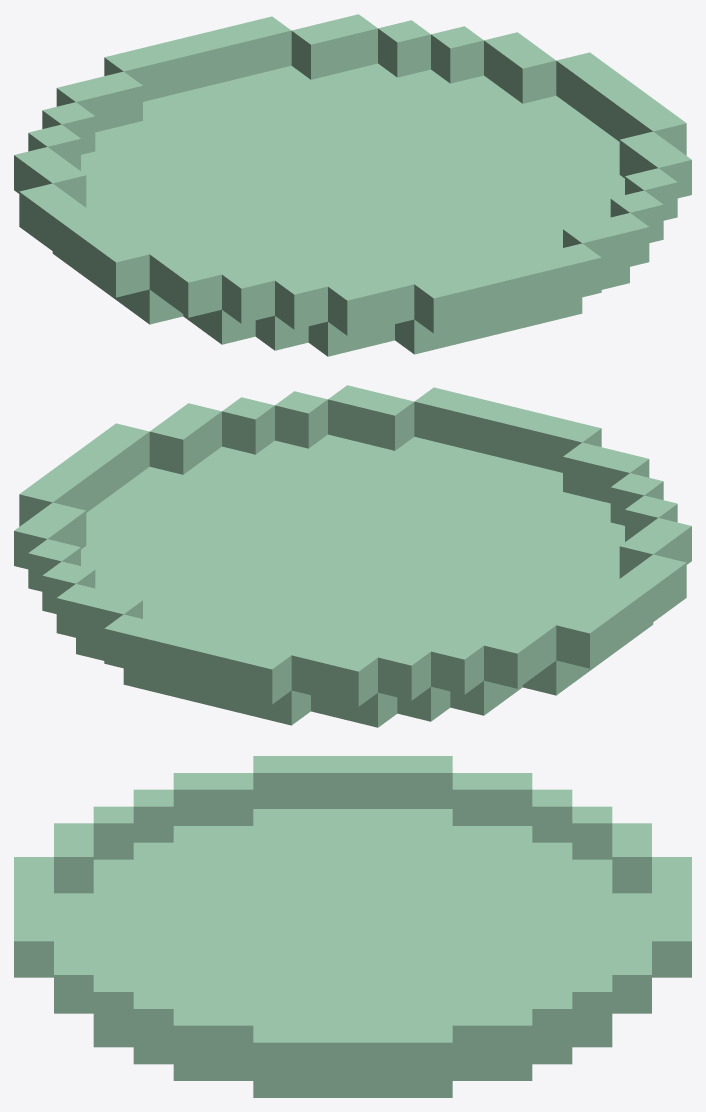
File: dish.fbx
The picture shows the model from 3 angles, top to bottom: view 1: azimuth 30°, elevation 25°; view 2: azimuth 150°, elevation 25°; view 3: azimuth 270°, elevation 25°; orthographic projection. The views are drawn at different scales.
Visible parts, largest first — view 1: dish:dish; view 2: dish:dish; view 3: dish:dish.
Boxes of the visible parts, box(x1,y1,x2,y2) form: dish:dish: box(14, 14, 691, 356); dish:dish: box(14, 385, 691, 727); dish:dish: box(14, 756, 691, 1097).
Bounding box in the file's own units: 17 × 2 × 17.
